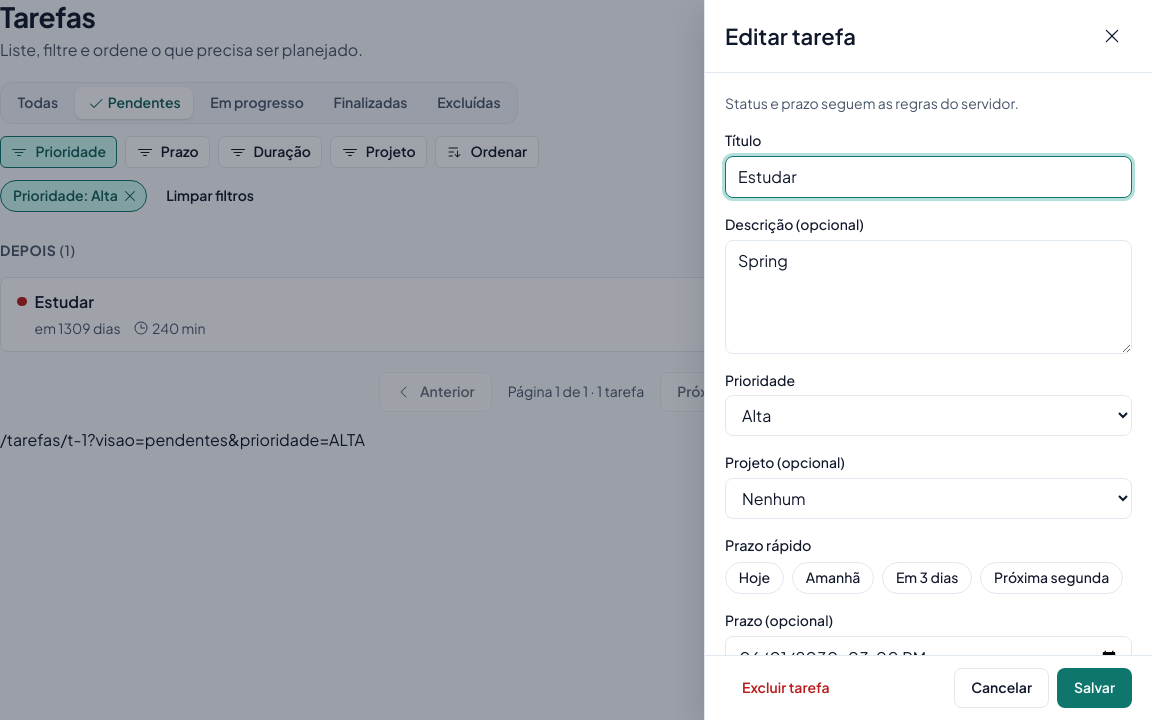
Test case: TarefaDrawer › rotas › T3: fechar o drawer volta a /tarefas com os mesmos filtros
Expected: the field showing "Estudar" is shown, [725,156,1132,198]
Click the button named "Fechar": (1112, 36) [1092,16,1132,56]
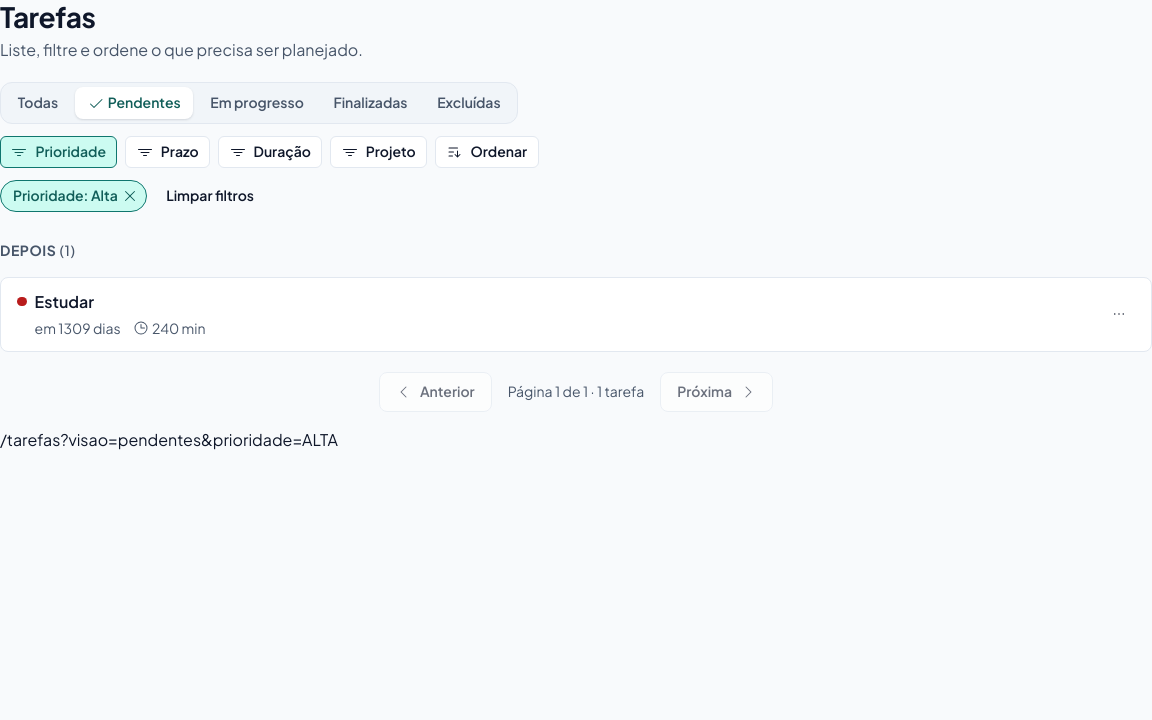
Now the heading "Editar tarefa" is gone
Now the text with test id "local" reads "/tarefas?visao=pendentes&prioridade=ALTA", box [0,429,338,450]
